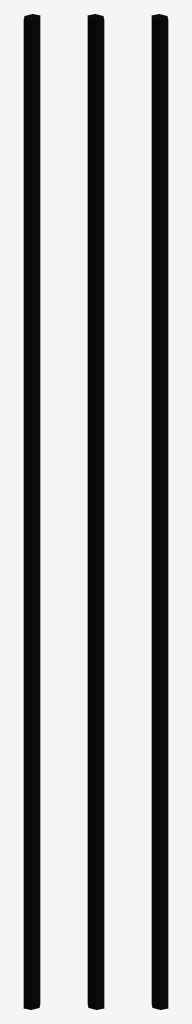
The model's file is cable.gltf.
3 renders of one model, left to right at view 1: azimuth 30°, elevation 25°; view 2: azimuth 150°, elevation 25°; view 3: azimuth 330°, elevation 25°, orthographic.
Parts seen in each view (by area): view 1: cylinder; view 2: cylinder; view 3: cylinder.
Part boxes in pixels (x1,y1,x2,y2): cylinder: [23, 14, 40, 1009]; cylinder: [87, 14, 104, 1009]; cylinder: [151, 14, 168, 1009].
Bounding box in the file's own units: 0.0347 × 2 × 0.025.
Materials: 1 (1 with a texture image).
